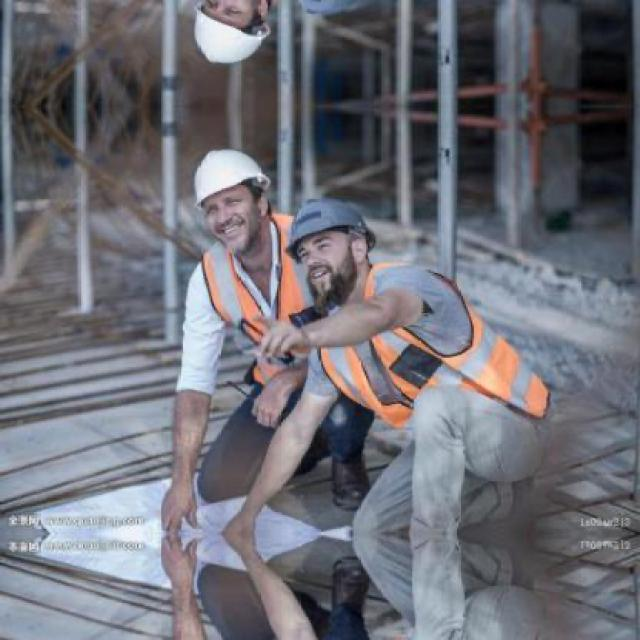helmet: (180, 136, 276, 250), (280, 191, 378, 298), (180, 0, 277, 76), (280, 0, 380, 20)
